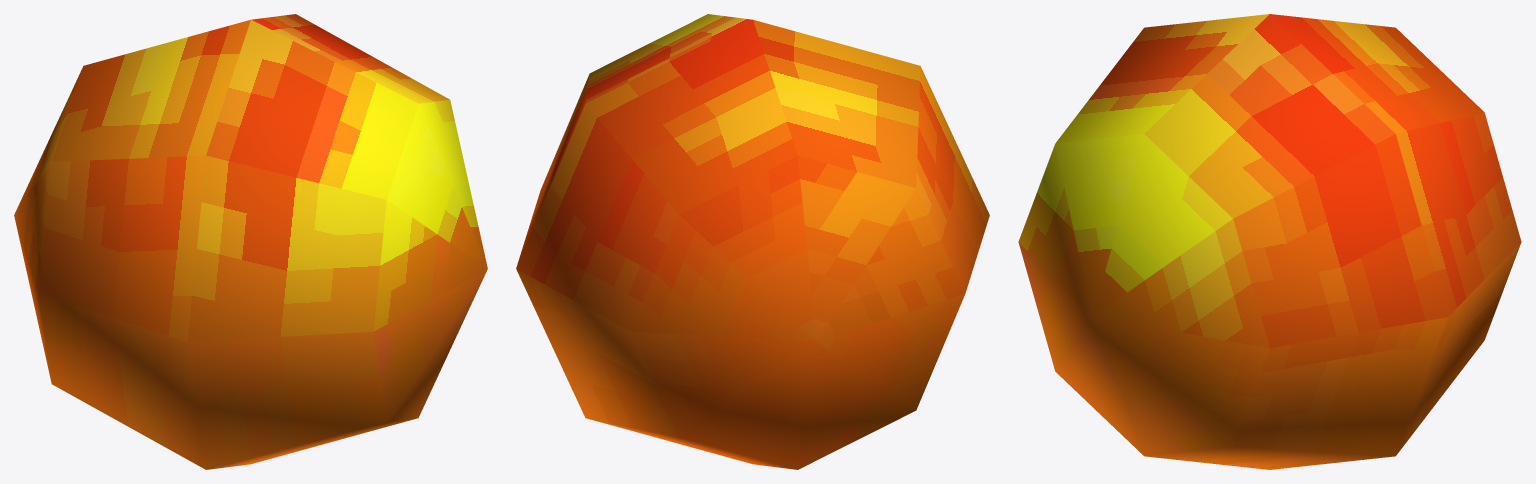
3 views of the same model, side by side, from view 1: azimuth 30°, elevation 25°; view 2: azimuth 150°, elevation 25°; view 3: azimuth 270°, elevation 25° (orthographic). The views are drawn at different scales.
Parts seen in each view (by area): view 1: Sphere_8; view 2: Sphere_8; view 3: Sphere_8.
Part boxes in pixels (x1,y1,x2,y2): Sphere_8: (14,14,487,469); Sphere_8: (516,14,989,469); Sphere_8: (1018,14,1521,469).
Bounding box in the file's own units: 1.07 × 1.07 × 1.07.
